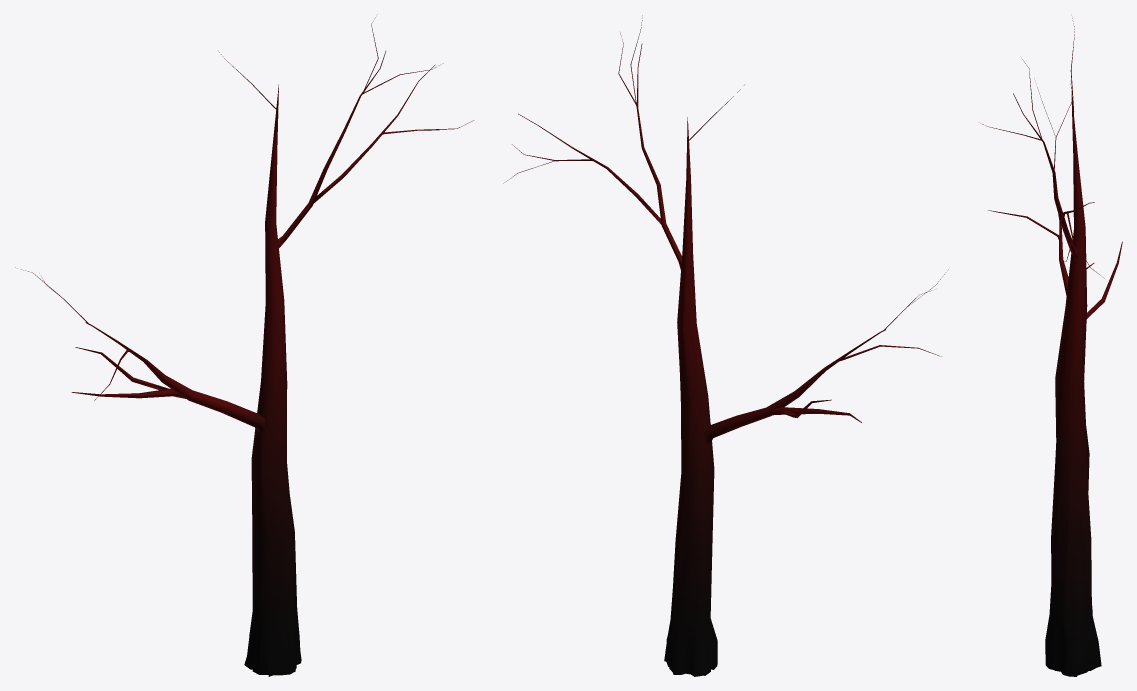
The model's file is Tree A.fbx.
The picture shows the model from 3 angles, left to right: view 1: azimuth 30°, elevation 25°; view 2: azimuth 150°, elevation 25°; view 3: azimuth 270°, elevation 25°; orthographic projection. The views are drawn at different scales.
Parts seen in each view (by area): view 1: Hemisphere_Tree_LOD0; view 2: Hemisphere_Tree_LOD0; view 3: Hemisphere_Tree_LOD0.
Part boxes in pixels (box(x1,y1,x2,y2)): Hemisphere_Tree_LOD0: box(15, 14, 473, 676); Hemisphere_Tree_LOD0: box(503, 15, 948, 676); Hemisphere_Tree_LOD0: box(980, 18, 1122, 676).
Size of what is drawn, in the model's own units: 1229 by 1677 by 341.
